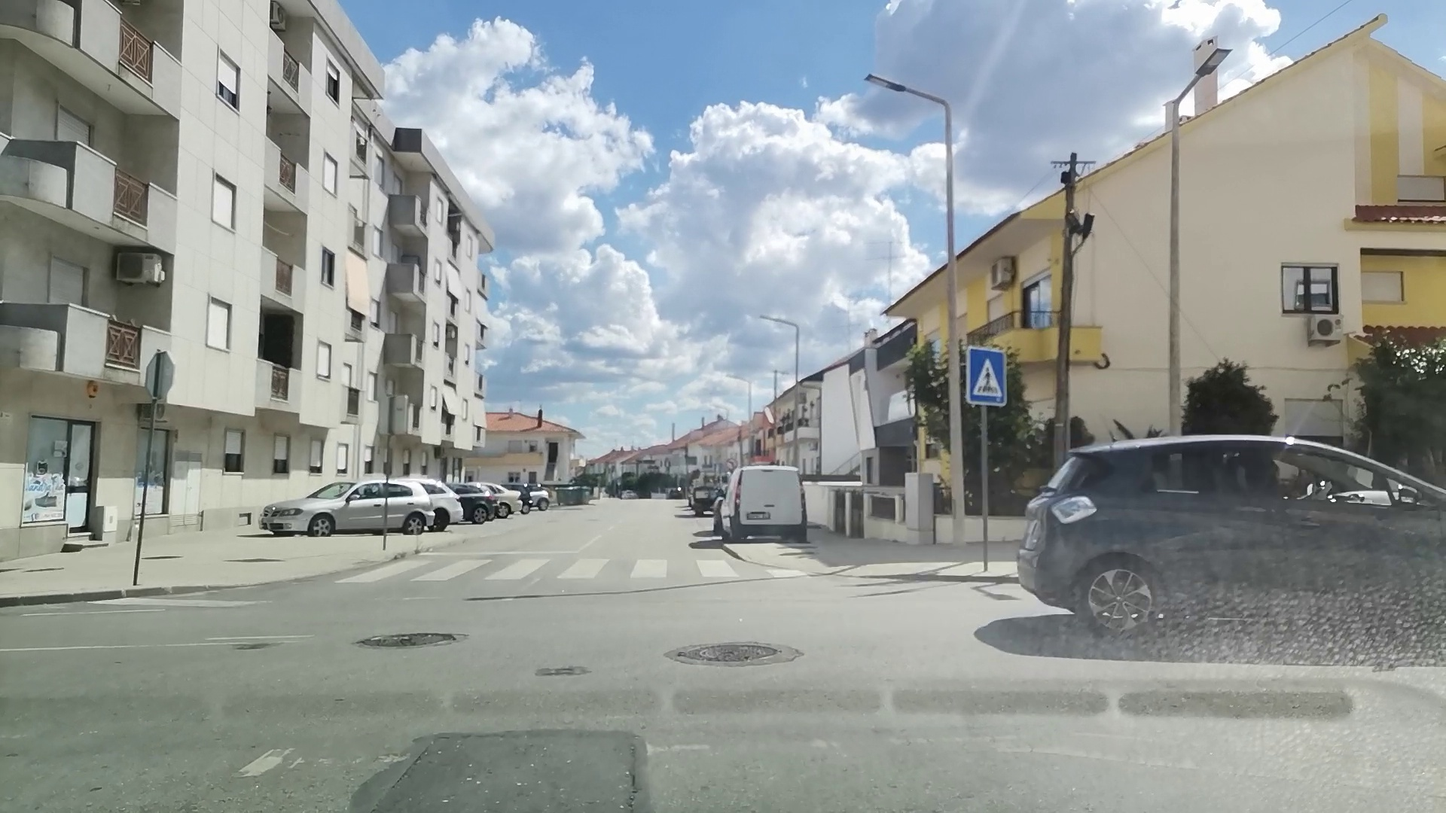Stairs: (335, 558, 826, 584)
